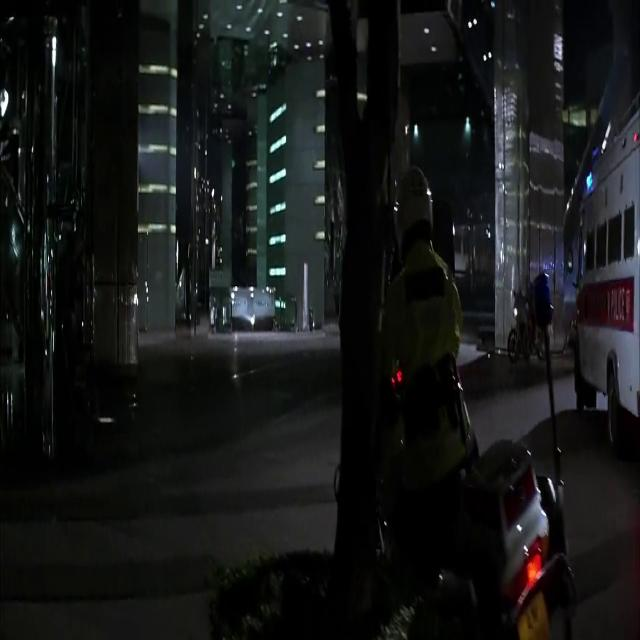Motorbike: (342, 263, 562, 630)
